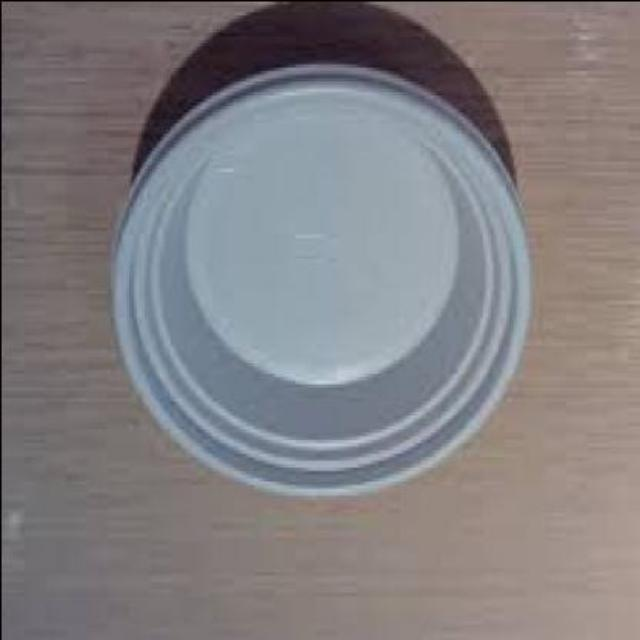plastic_box: (110, 64, 522, 496)
